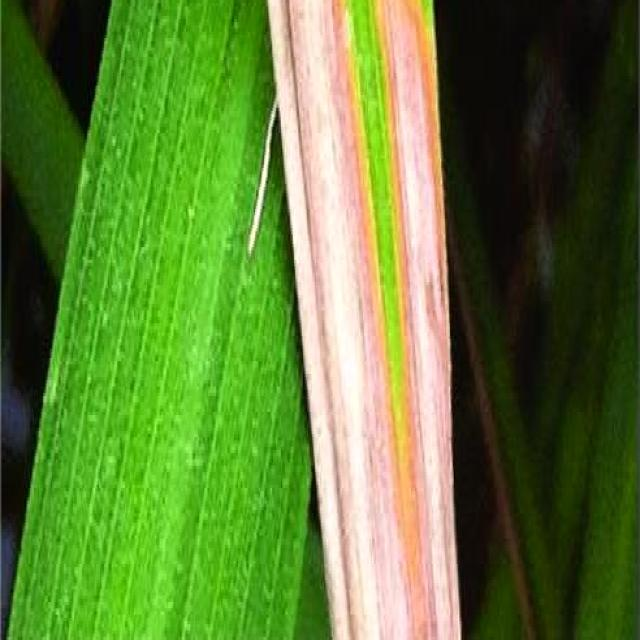BLB: (269, 0, 459, 639)
